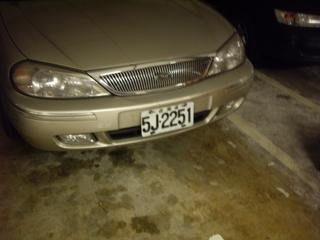plate: (139, 104, 194, 133)
